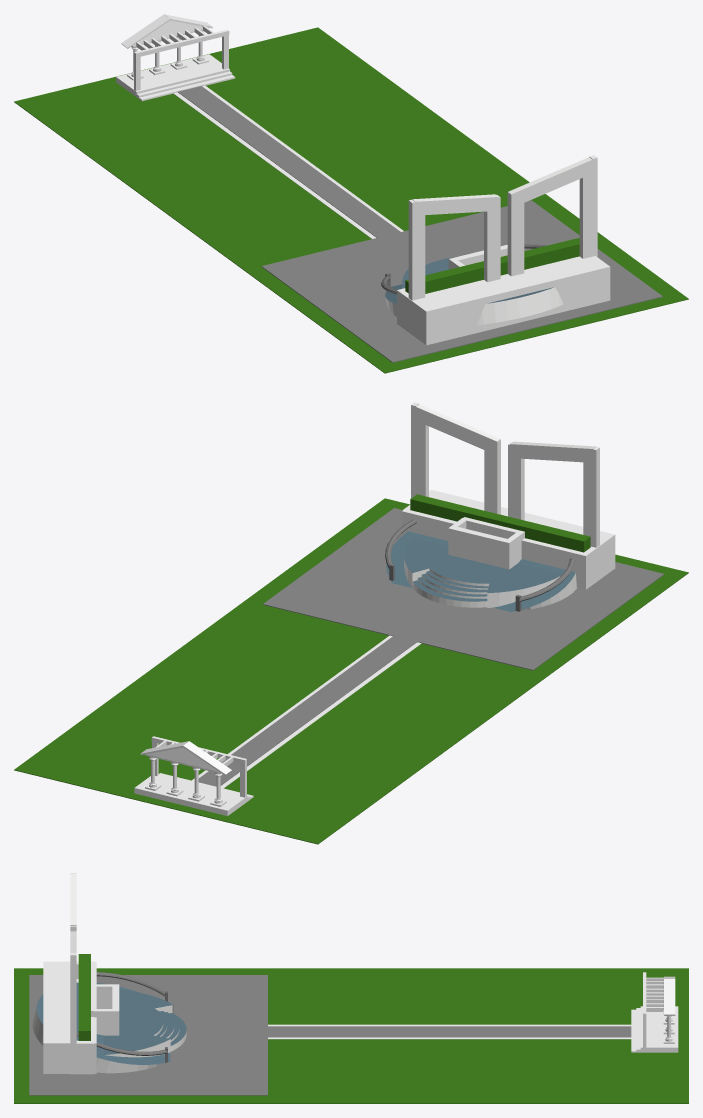
Rendered from CentenialPark.glb.
3 renders of one model, top to bottom at view 1: azimuth 30°, elevation 25°; view 2: azimuth 150°, elevation 25°; view 3: azimuth 270°, elevation 25°, orthographic. The views are drawn at different scales.
Parts seen in each view (by area): view 1: cube.044; view 2: cube.044; view 3: cube.044.
Boxes of the visible parts, <box> form: cube.044: <box>14,14,688,373</box>; cube.044: <box>14,402,688,844</box>; cube.044: <box>14,873,688,1103</box>.
Bounding box in the file's own units: 65.38 × 28.61 × 138.
12 materials, 12 textured.
